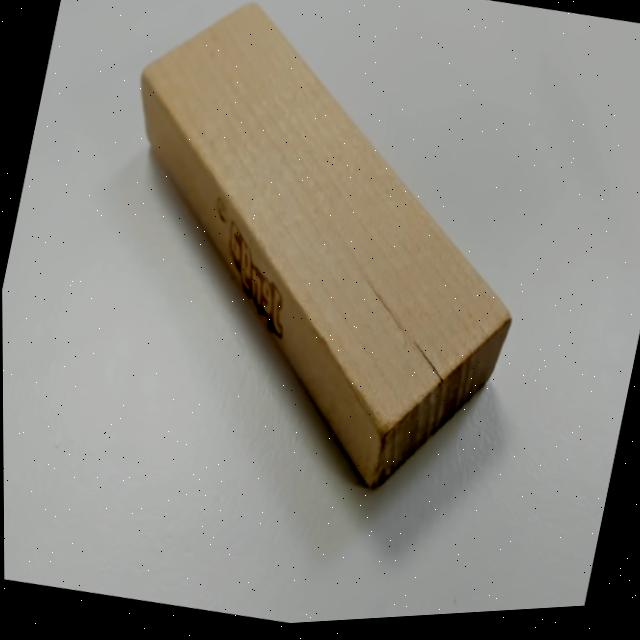Jenga: (61, 0, 568, 531)
